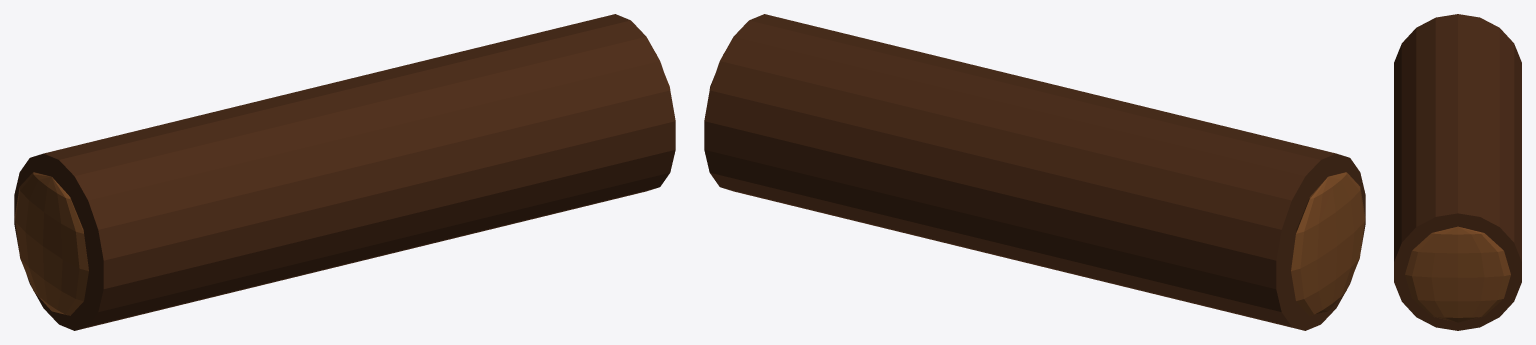
File: sitting_log.obj
3 views of the same model, side by side, from view 1: azimuth 30°, elevation 25°; view 2: azimuth 150°, elevation 25°; view 3: azimuth 270°, elevation 25° (orthographic). The views are drawn at different scales.
Parts seen in each view (by area): view 1: sitting_log, cut_end_-0.82; view 2: sitting_log, cut_end_-0.82; view 3: sitting_log, cut_end_0.82.
Boxes of the visible parts, box(x1,y1,x2,y2) form: sitting_log: box(14, 14, 675, 330); cut_end_-0.82: box(14, 172, 88, 315); sitting_log: box(704, 14, 1365, 330); cut_end_-0.82: box(1291, 172, 1365, 315); sitting_log: box(1394, 14, 1521, 330); cut_end_0.82: box(1405, 226, 1510, 322).
Bounding box in the file's own units: 1.69 × 0.44 × 0.4333.
